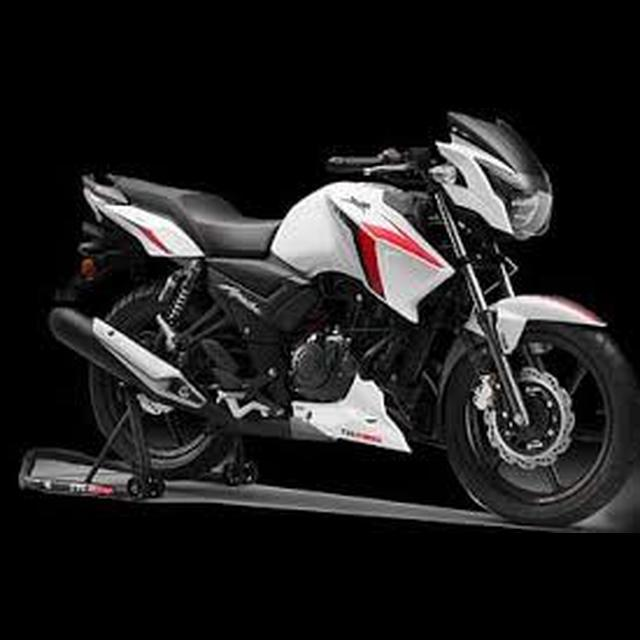motorcycle: (39, 103, 640, 533)
